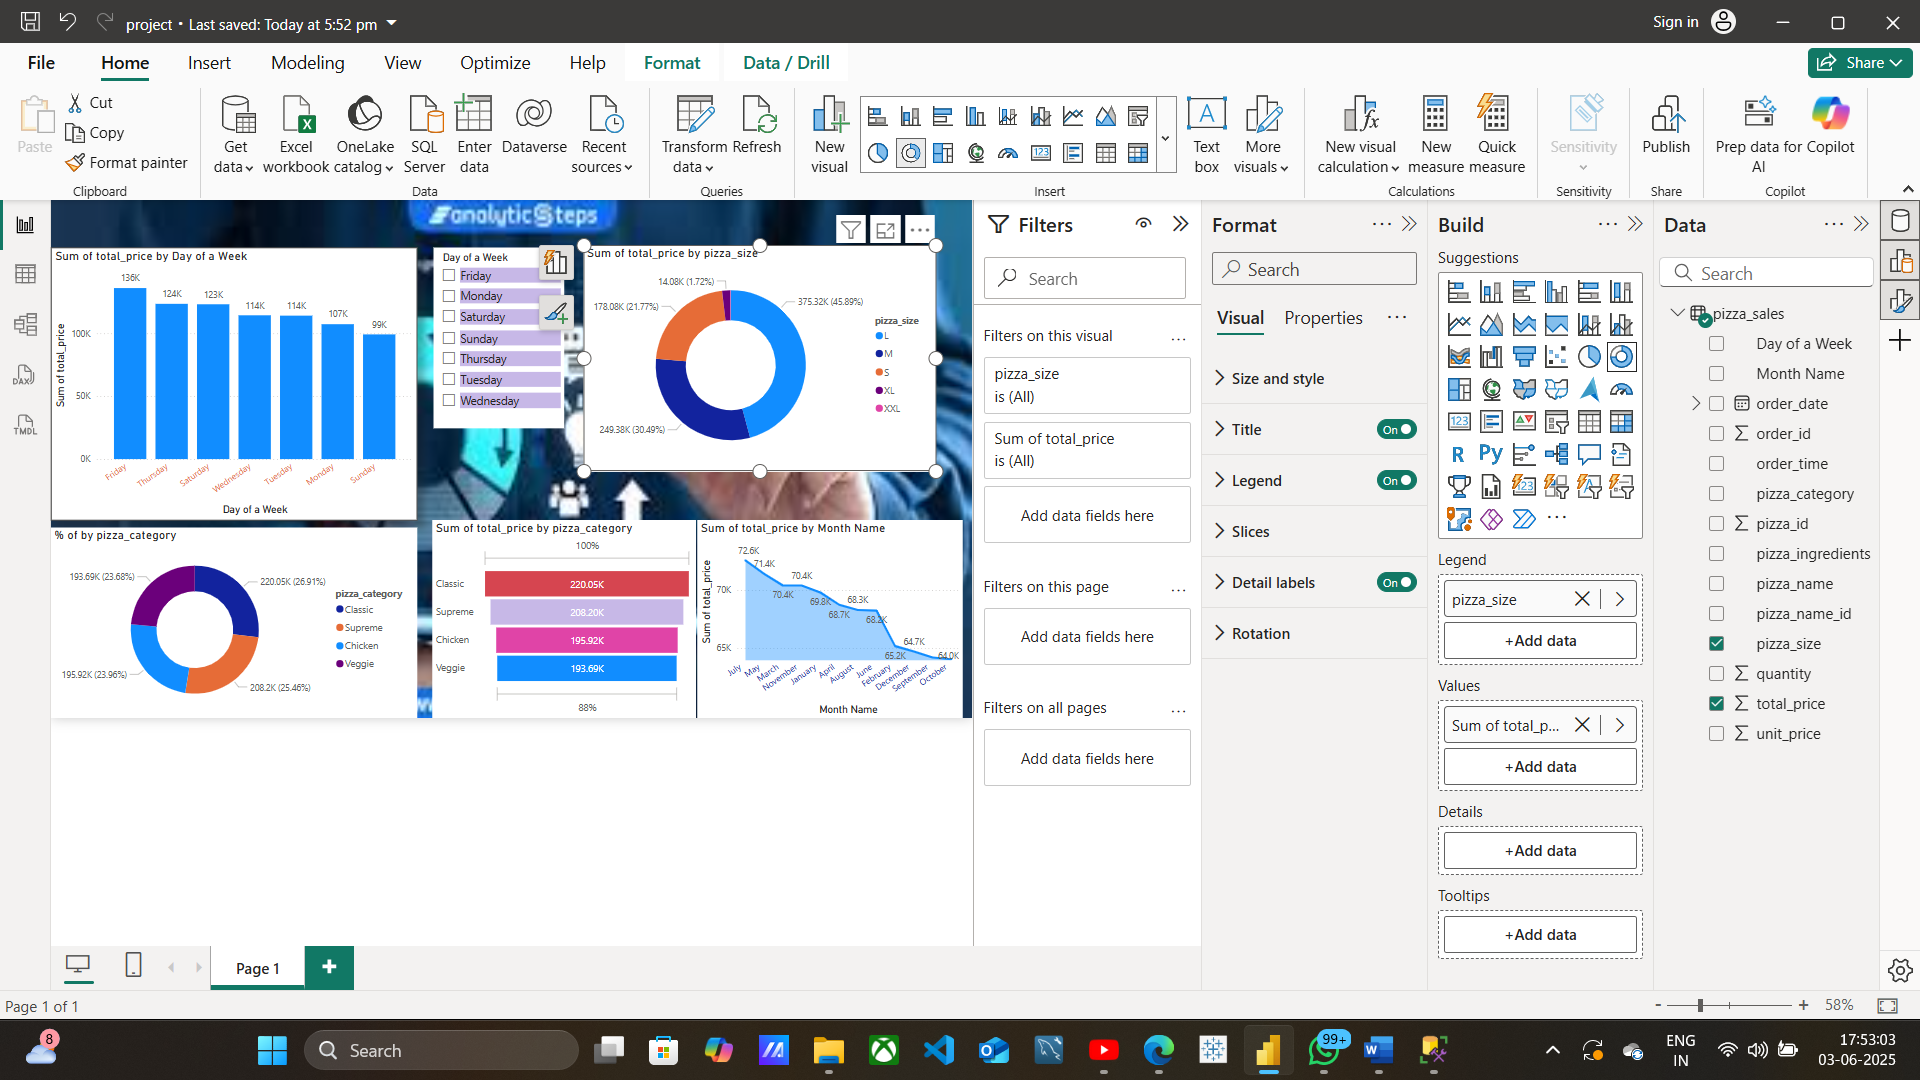

The page's visual inventory and layout, read from the dashboard file:
{"tool":"powerbi","page":{"name":"Page 1","canvas":[1280,720],"ordinal":0},"visuals":[{"type":"clusteredColumnChart","fields":{"Category":["pizza_sales.Day of a Week"],"Y":["pizza_sales.total_price"]},"box":[0,65.9,509,379.1],"z":0},{"type":"slicer","fields":{"Values":["pizza_sales.Day of a Week"]},"box":[532.2,65.9,181.5,250.9],"z":1000},{"type":"donutChart","fields":{"Category":["pizza_sales.pizza_category"],"Y":["pizza_sales.total_price"]},"box":[0,455,509,265],"z":2000},{"type":"donutChart","fields":{"Category":["pizza_sales.pizza_size"],"Y":["pizza_sales.total_price"]},"box":[740.4,62.3,489.4,315],"z":3000},{"type":"funnel","fields":{"Category":["pizza_sales.pizza_category"],"Y":["pizza_sales.total_price"]},"box":[530.4,444.9,366.6,275.9],"z":4000},{"type":"areaChart","fields":{"Category":["pizza_sales.Month Name"],"Y":["pizza_sales.total_price"]},"box":[897,444.9,368.4,275.9],"z":4001}]}

Visuals, with their boxes on the page's 1280x720 design canvas (x1, y1, x2, y2). These are canvas units, not pixel positions in the 1920x1080 screenshot, which may show the page scaled, cropped or inside an application window:
clusteredColumnChart - pizza_sales.Day of a Week x pizza_sales.total_price: (x1=0, y1=66, x2=509, y2=445)
slicer - pizza_sales.Day of a Week: (x1=532, y1=66, x2=714, y2=317)
donutChart - pizza_sales.pizza_category x pizza_sales.total_price: (x1=0, y1=455, x2=509, y2=720)
donutChart - pizza_sales.pizza_size x pizza_sales.total_price: (x1=740, y1=62, x2=1230, y2=377)
funnel - pizza_sales.pizza_category x pizza_sales.total_price: (x1=530, y1=445, x2=897, y2=721)
areaChart - pizza_sales.Month Name x pizza_sales.total_price: (x1=897, y1=445, x2=1265, y2=721)
